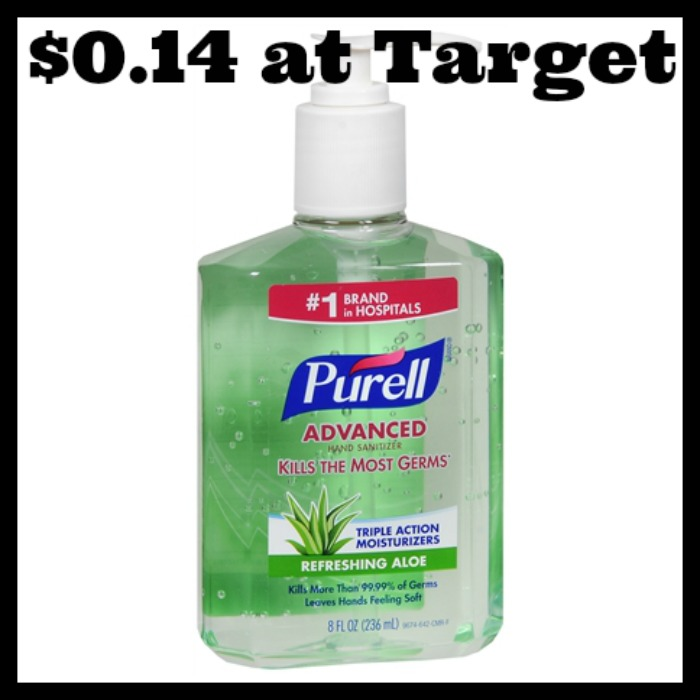Sanitizer: (181, 29, 519, 676)
